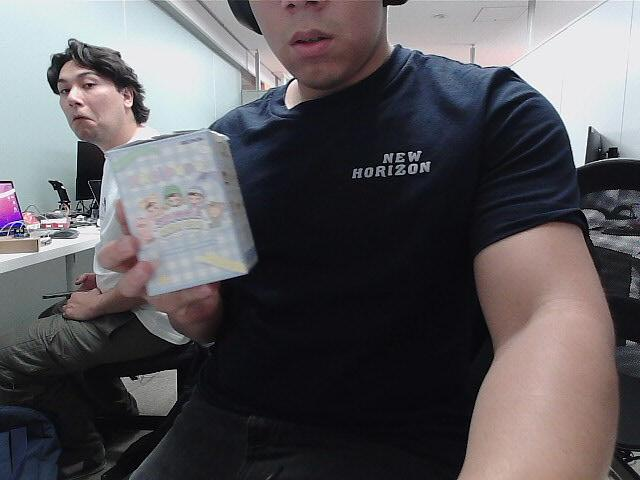Blind_box: (104, 131, 256, 300)
